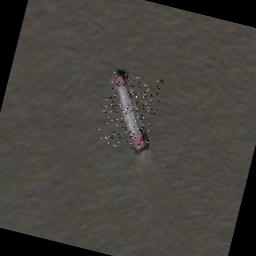boat: (95, 68, 165, 156)
